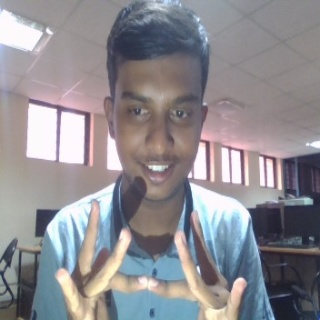Face: (101, 2, 212, 204)
